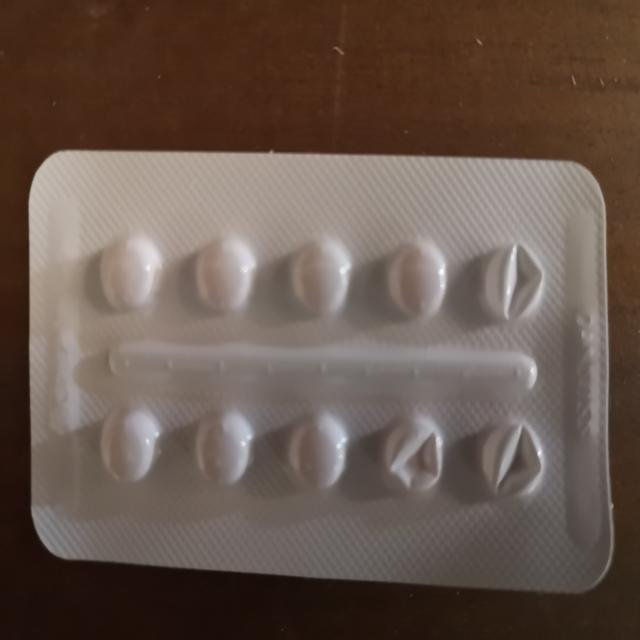Empty: (474, 408, 554, 512), (373, 406, 450, 509), (477, 235, 547, 330)
Pill: (282, 401, 354, 500), (380, 233, 452, 327), (189, 399, 256, 500), (92, 394, 160, 492), (282, 234, 354, 322), (91, 235, 166, 318), (191, 238, 261, 322)
